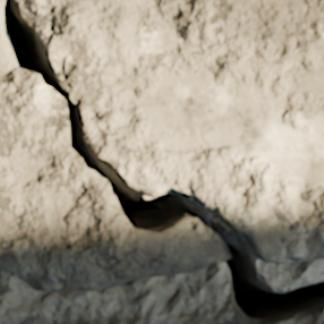broken_brick: (15, 0, 323, 264), (0, 0, 219, 293)
crack: (1, 0, 323, 323)
